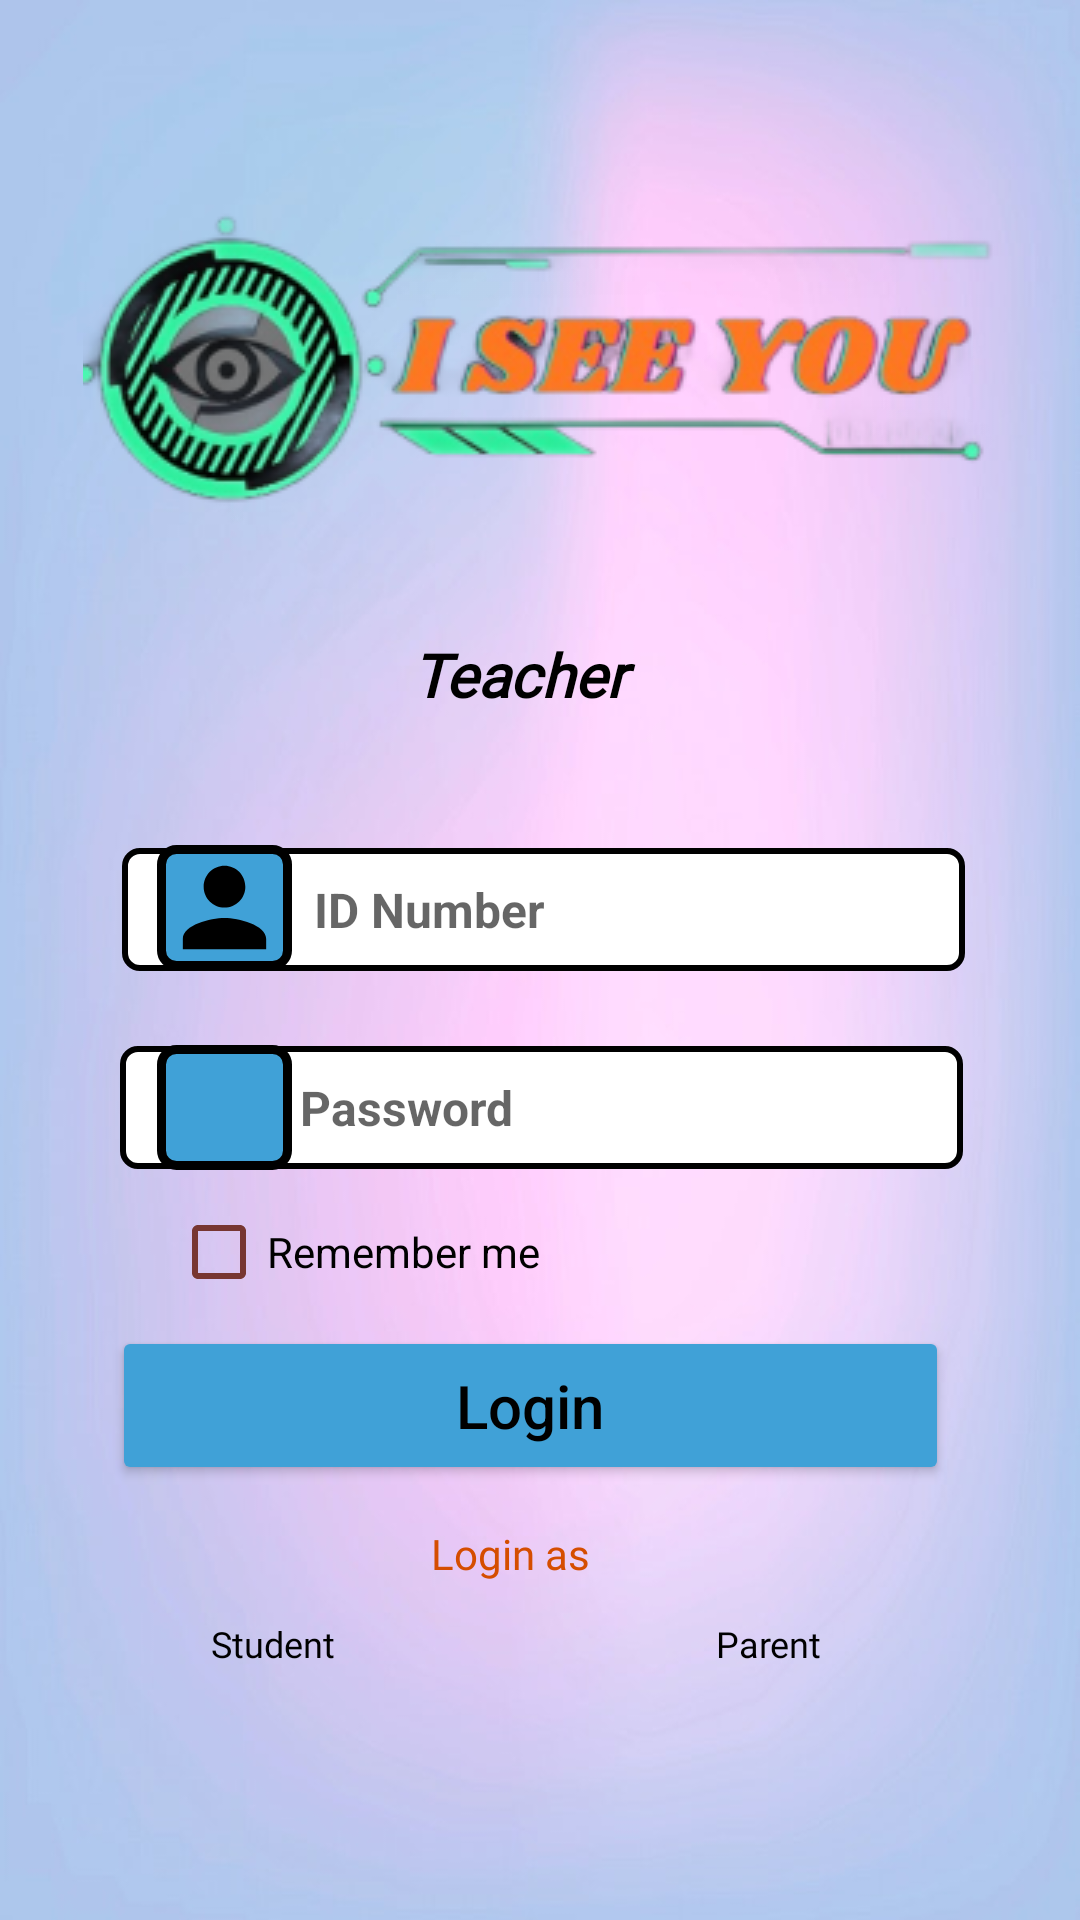

Icons on this 1080x1920 Android screen, each with the point to tap as (x=x, y=y):
person: (x=224, y=907)
